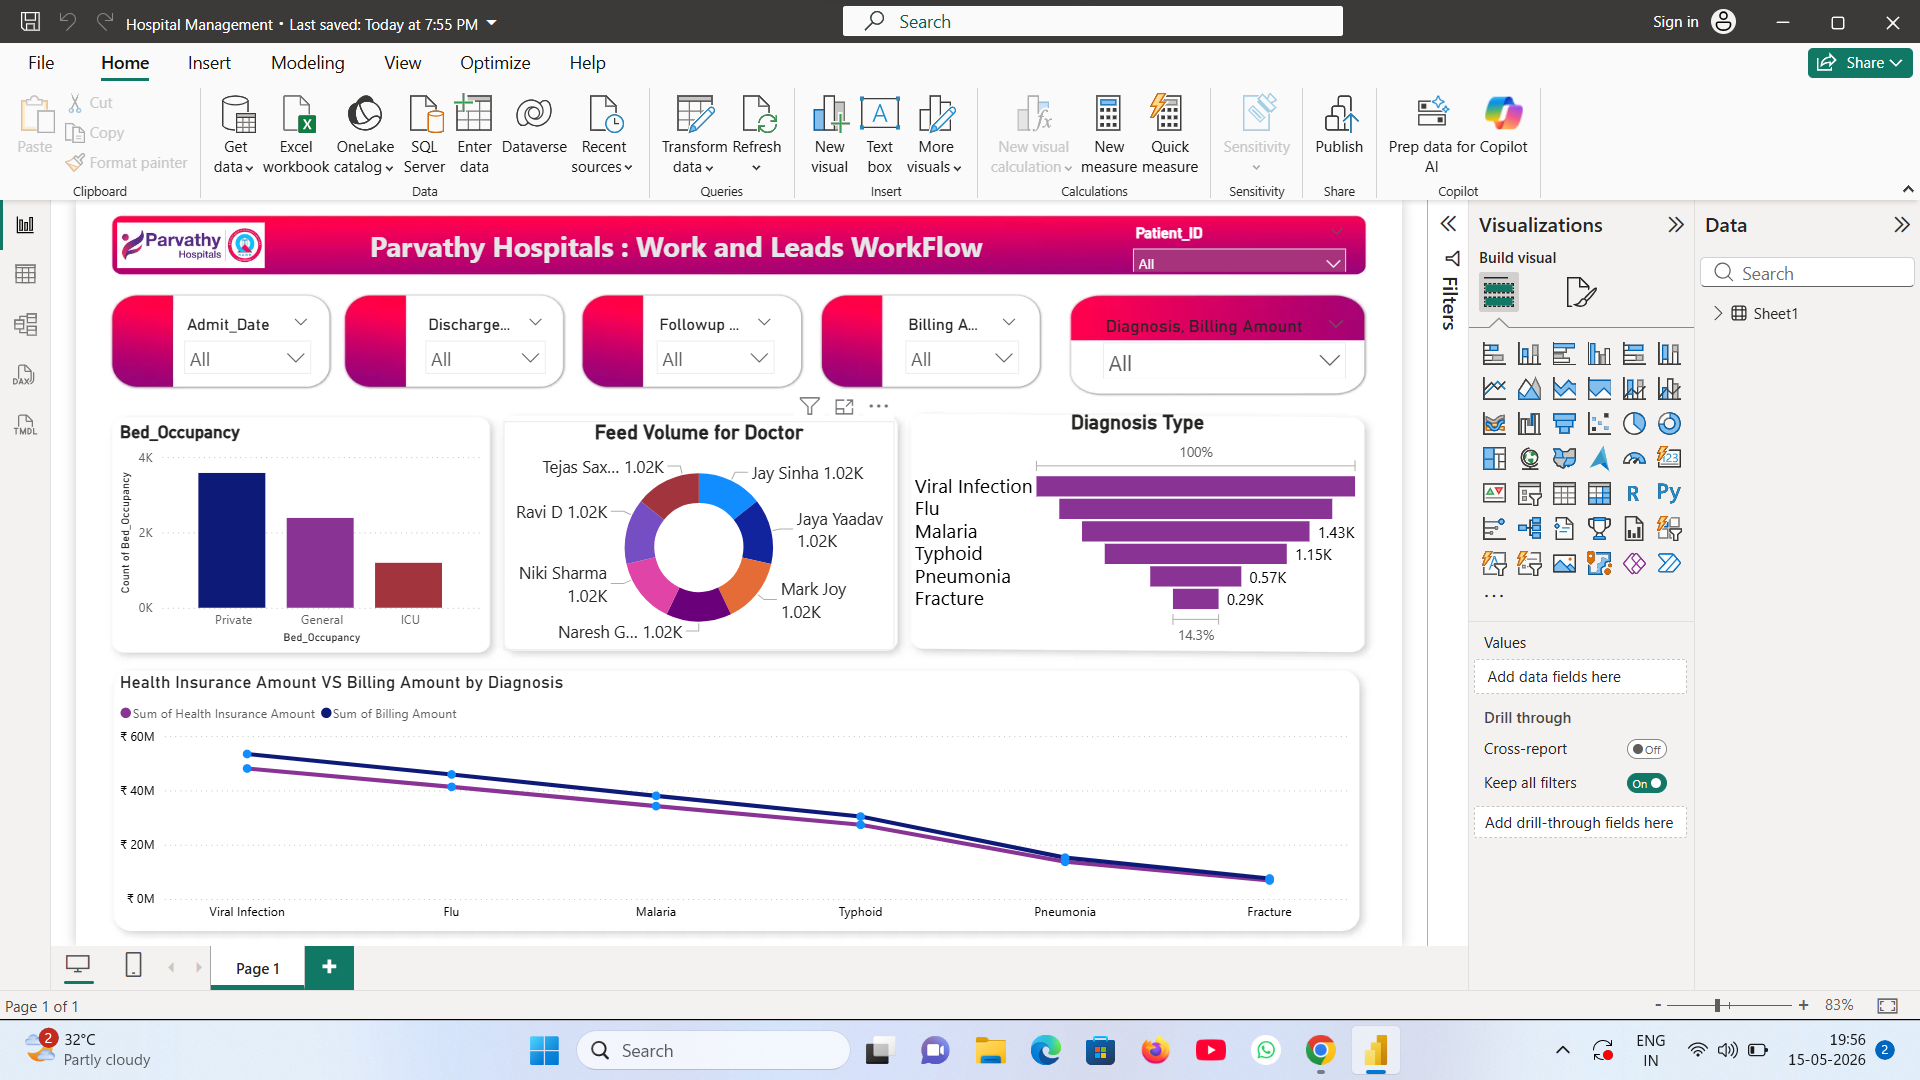

This screenshot's page, from the dashboard's own definition file:
{"tool":"powerbi","page":{"name":"Page 1","canvas":[1280,720],"ordinal":0},"visuals":[{"type":"textbox","box":[278.8,21.2,722.5,60],"z":0},{"type":"slicer","fields":{"Values":["Sheet1.Patient_ID"]},"box":[1010,17.5,226.2,51.2],"z":1000},{"type":"image","box":[27.5,21.2,166.2,43.8],"z":2000},{"type":"slicer","fields":{"Values":["Sheet1.Discharge_Date"]},"box":[327.5,106.2,136.2,62.5],"z":3000},{"type":"slicer","fields":{"Values":["Sheet1.Followup Date"]},"box":[550,106.2,133.8,62.5],"z":4000},{"type":"slicer","fields":{"Values":["Sheet1.Billing Amount"]},"box":[790,106.2,130,61.2],"z":5000},{"type":"textbox","box":[93.8,291.2,126.2,38.8],"z":6000},{"type":"slicer","fields":{"Values":["Sheet1.Admit_Date"]},"box":[93.8,106.2,142.5,65],"z":7000},{"type":"columnChart","title":"Bed_Occupancy","fields":{"Category":["Sheet1.Bed_Occupancy"],"Y":["CountNonNull(Sheet1.Bed_Occupancy)"]},"box":[37.5,213.8,358.8,220],"z":8000},{"type":"donutChart","title":"Feed Volume for Doctor","fields":{"Category":["Sheet1.Doctor"],"Y":["CountNonNull(Sheet1.Doctor)"]},"box":[412.5,213.8,377.5,220],"z":9000},{"type":"funnel","title":" Diagnosis Type","fields":{"Category":["Sheet1.Diagnosis"],"Y":["CountNonNull(Sheet1.Diagnosis)"]},"box":[805,203.8,440,230],"z":10000},{"type":"slicer","title":" Billing Amount VS Health Insurance Amount by Diagnosis","fields":{"Values":["Sheet1.Diagnosis","Sheet1.Billing Amount"]},"box":[981.2,106.2,255,66.2],"z":11000},{"type":"lineChart","title":" Health Insurance Amount VS Billing Amount by Diagnosis","fields":{"Y":["Sum(Sheet1.Health Insurance Amount)","Sum(Sheet1.Billing Amount)"],"Category":["Sheet1.Diagnosis"]},"box":[37.5,455,1198.8,250],"z":12000}]}

Visuals, with their boxes on the page's 1280x720 design canvas (x1, y1, x2, y2). These are canvas units, not pixel positions in the 1920x1080 screenshot, which may show the page scaled, cropped or inside an application window:
textbox: box=[279, 21, 1001, 81]
slicer - Sheet1.Patient_ID: box=[1010, 18, 1236, 69]
image: box=[28, 21, 194, 65]
slicer - Sheet1.Discharge_Date: box=[328, 106, 464, 169]
slicer - Sheet1.Followup Date: box=[550, 106, 684, 169]
slicer - Sheet1.Billing Amount: box=[790, 106, 920, 167]
textbox: box=[94, 291, 220, 330]
slicer - Sheet1.Admit_Date: box=[94, 106, 236, 171]
"Bed_Occupancy" columnChart: box=[38, 214, 396, 434]
"Feed Volume for Doctor" donutChart: box=[412, 214, 790, 434]
" Diagnosis Type" funnel: box=[805, 204, 1245, 434]
" Billing Amount VS Health Insurance Amount by Diagnosis" slicer: box=[981, 106, 1236, 172]
" Health Insurance Amount VS Billing Amount by Diagnosis" lineChart: box=[38, 455, 1236, 705]
